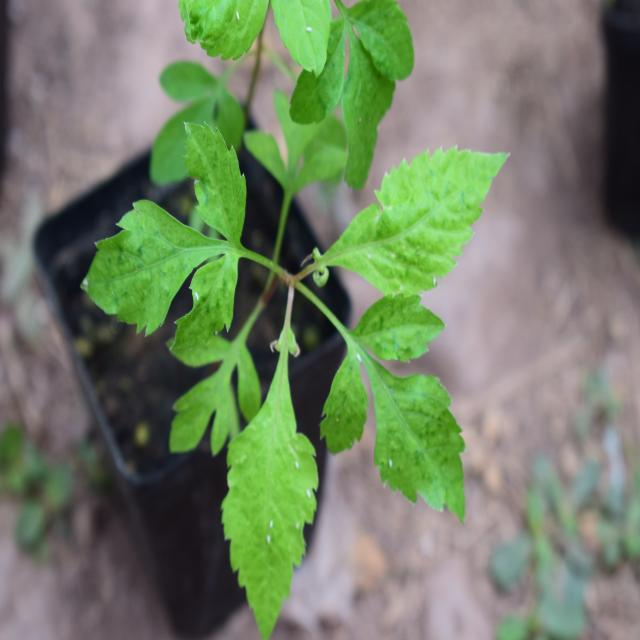Bidens pilosa: (101, 85, 497, 616)
